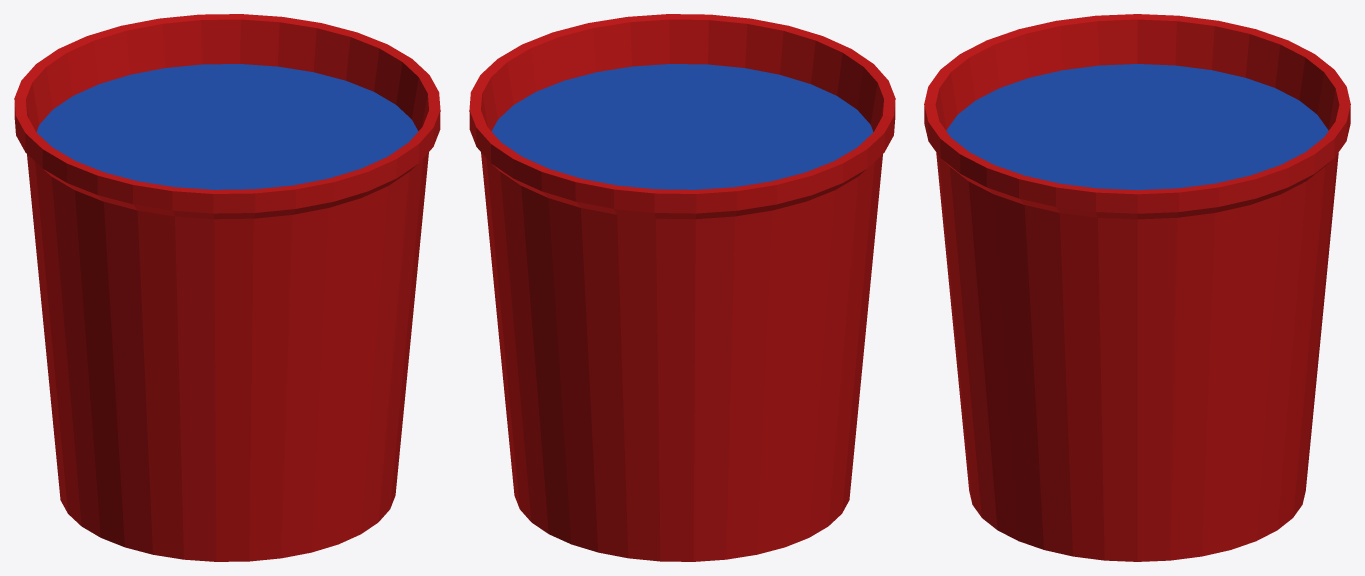
The model's file is bucket_filled.fbx.
3 renders of one model, left to right at view 1: azimuth 30°, elevation 25°; view 2: azimuth 150°, elevation 25°; view 3: azimuth 270°, elevation 25°, orthographic.
Visible parts, largest first — view 1: Cylinder; view 2: Cylinder; view 3: Cylinder.
Boxes of the visible parts, <box> form: Cylinder: <box>14,14,440,561</box>; Cylinder: <box>469,14,895,561</box>; Cylinder: <box>924,14,1350,561</box>.
Bounding box in the file's own units: 0.5 × 0.5 × 0.5.
